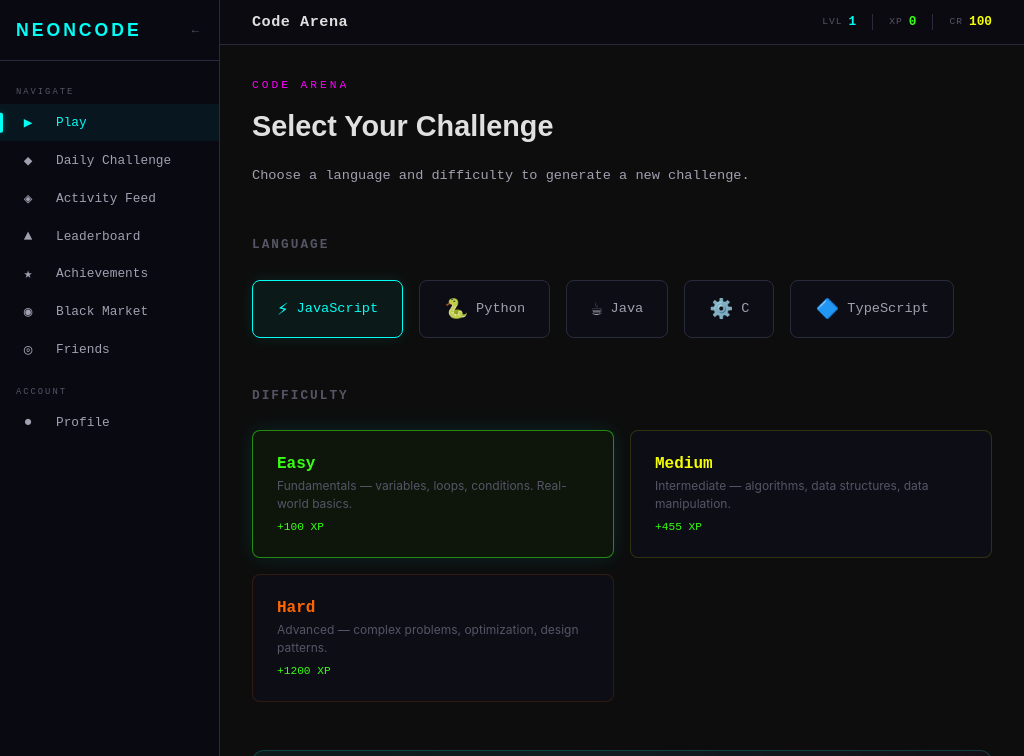
Test: MainPage › switches to profile view
The width and height of the screenshot is (1024, 756).
Click the button "● Profile" at (110, 422), box [0,404,219,440]
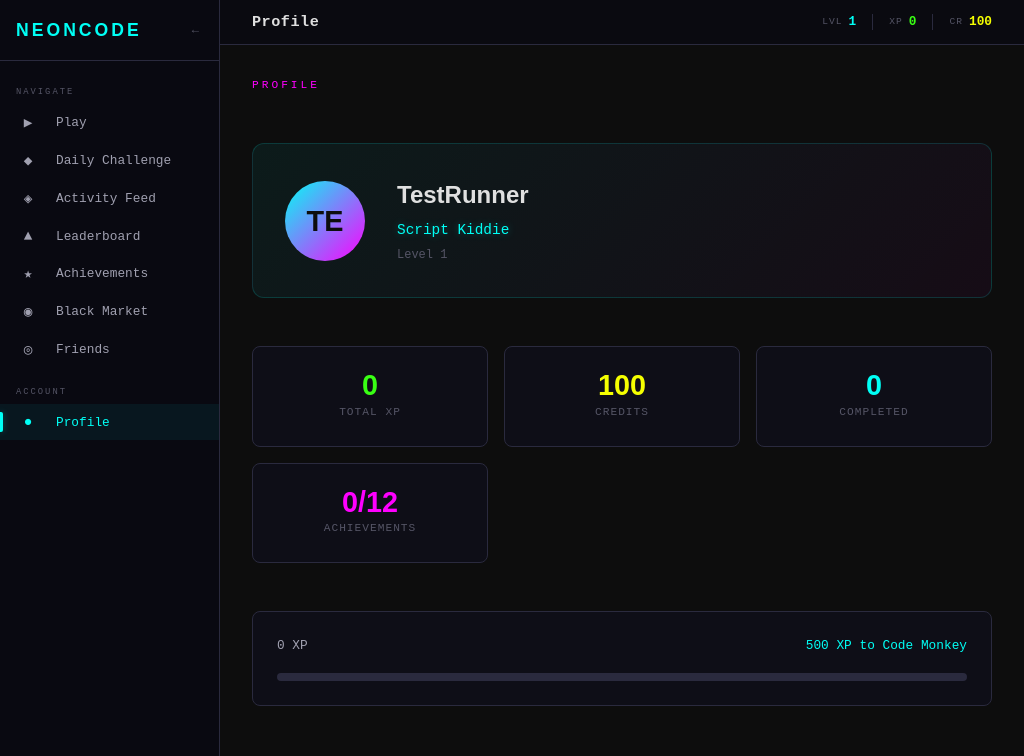
Check: the text "Total XP" is shown, box [339,406,401,418]
